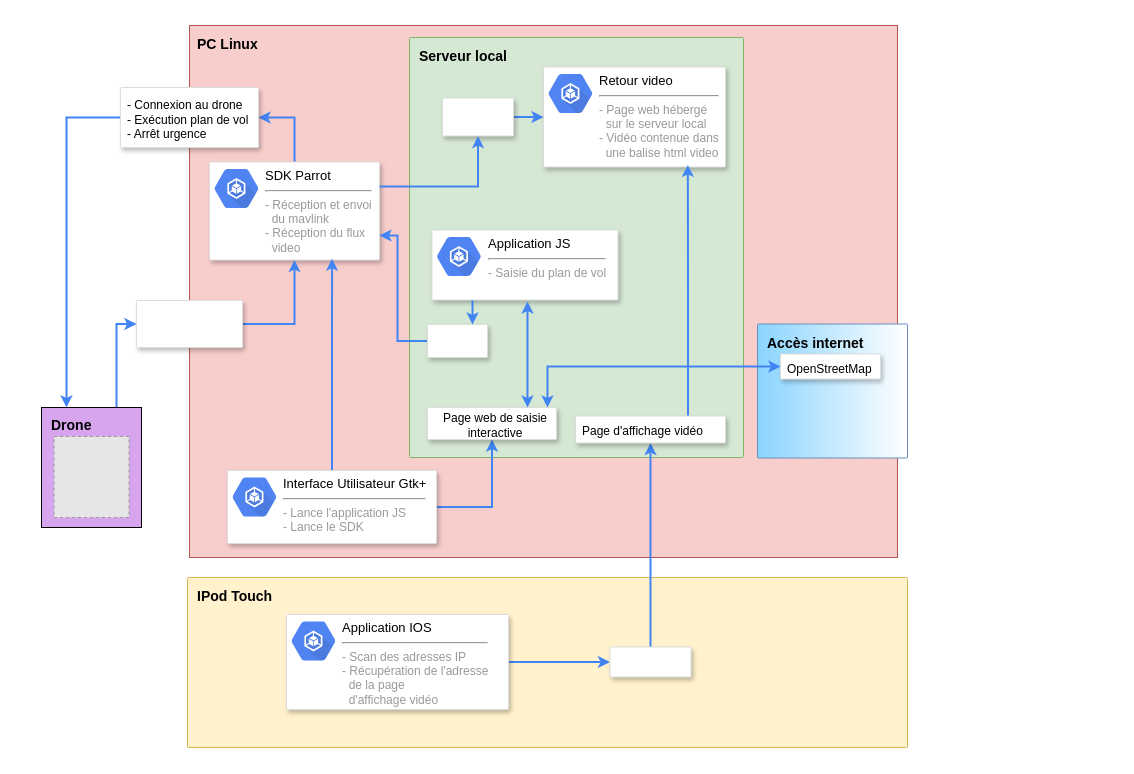
This 1134x774 diagram has some shape labels left out. Grey dashed boxes stand in for pictures. The centre of each missing label's shape, as x and y in pixels:
"- Flux vidéo - État du drone" belongs at (190,325).
"Fichier MavLink" belongs at (458,342).
"Flux vidéo h.264" belongs at (479,118).
"WK WebView" belongs at (651,663).
